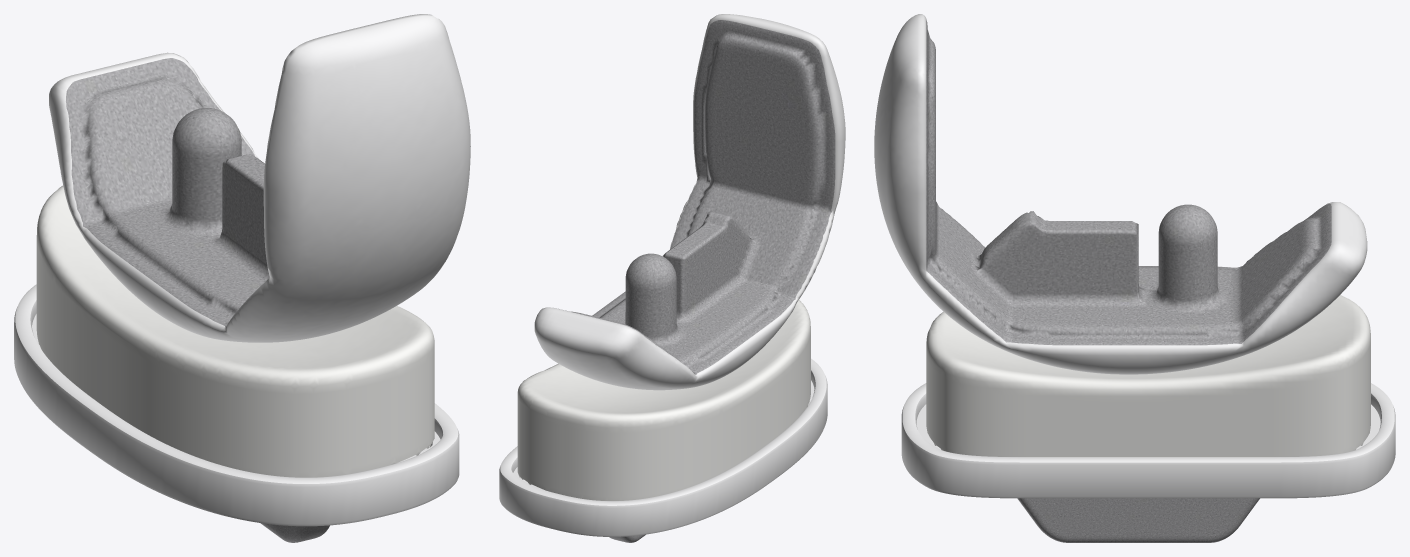
Rendered from iu-uni-knee.glb.
The picture shows the model from 3 angles, left to right: view 1: azimuth 30°, elevation 25°; view 2: azimuth 150°, elevation 25°; view 3: azimuth 270°, elevation 25°; orthographic projection. The views are drawn at different scales.
Visible parts, largest first — view 1: femoral.001, insert.001, tray.001; view 2: femoral.001, insert.001, tray.001; view 3: femoral.001, insert.001, tray.001.
Boxes of the visible parts, box(x1,y1,x2,y2) form: femoral.001: box(49, 14, 470, 342); insert.001: box(36, 185, 434, 477); tray.001: box(14, 284, 459, 542); femoral.001: box(534, 14, 845, 390); insert.001: box(517, 300, 810, 500); tray.001: box(499, 358, 827, 542); femoral.001: box(874, 14, 1367, 374); insert.001: box(926, 295, 1370, 456); tray.001: box(901, 383, 1395, 542).
Bounding box in the file's own units: 0.0265 × 0.055 × 0.0528.
Materials: 3 (1 with a texture image).
